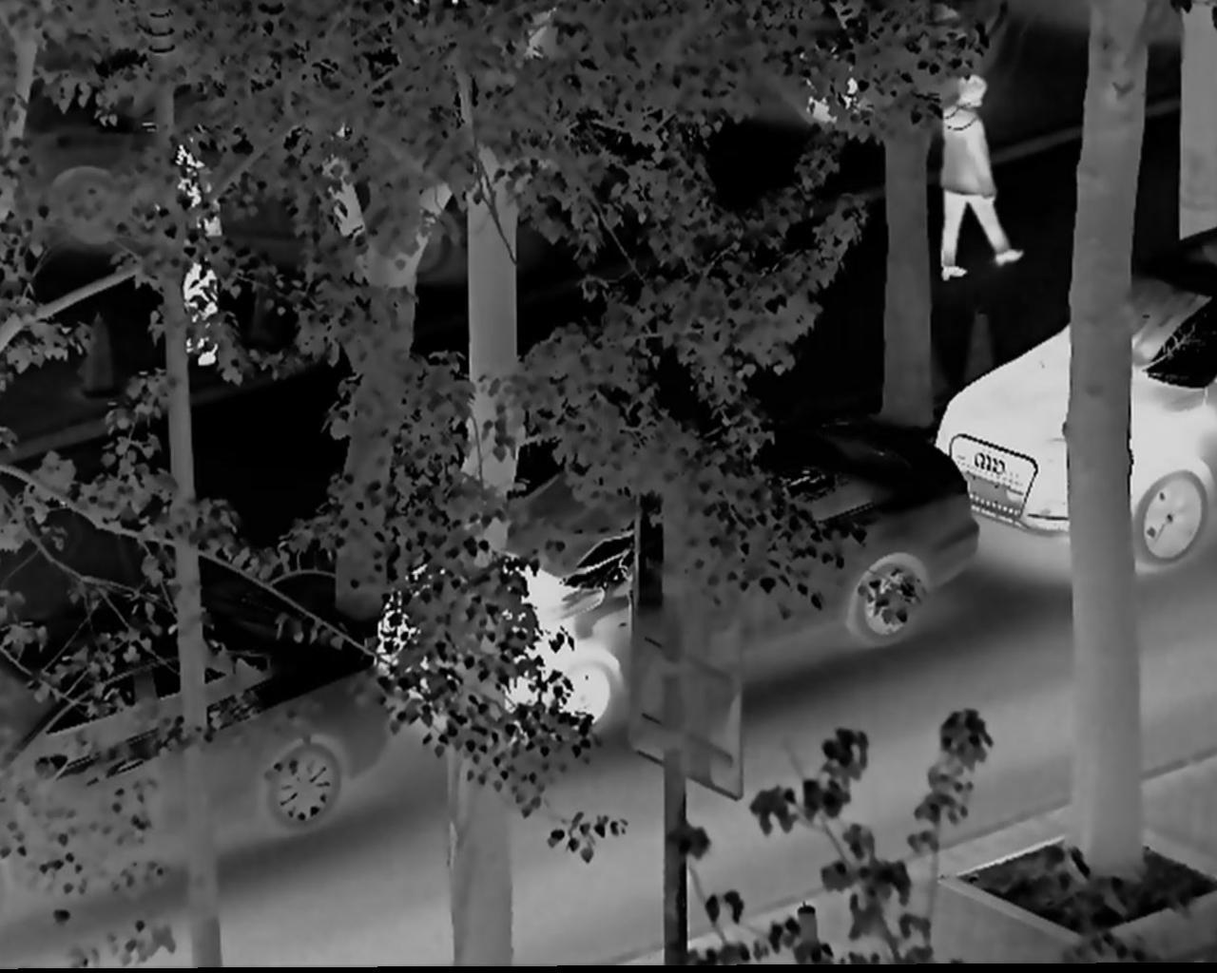person: (931, 72, 1020, 283), (157, 134, 237, 365)
